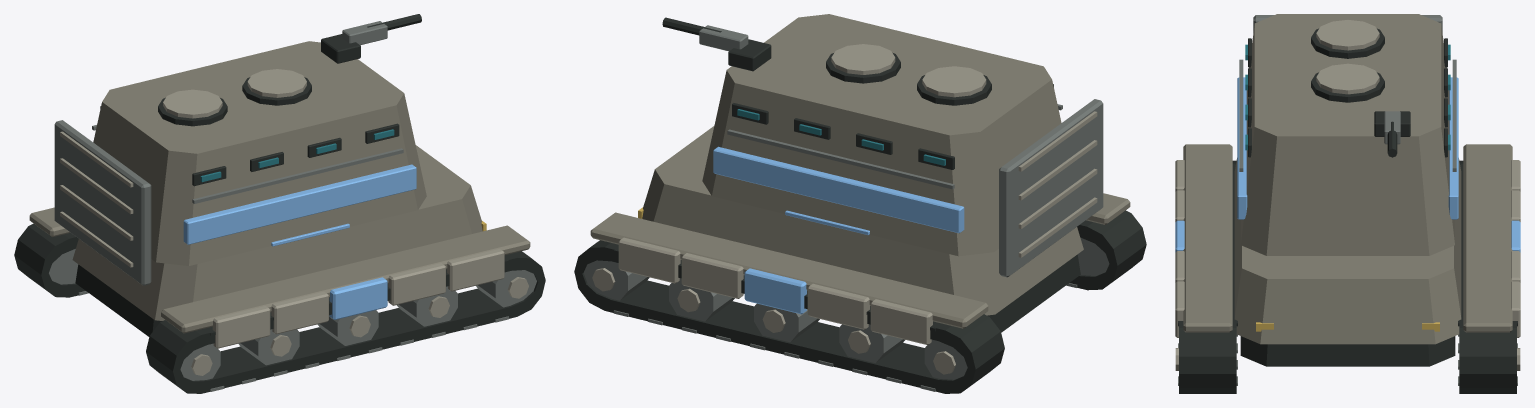
The model's file is troop_crawler.glb.
The picture shows the model from 3 angles, left to right: view 1: azimuth 30°, elevation 25°; view 2: azimuth 150°, elevation 25°; view 3: azimuth 270°, elevation 25°; orthographic projection. The views are drawn at different scales.
Visible parts, largest first — view 1: troop_crawler; view 2: troop_crawler; view 3: troop_crawler.
Boxes of the visible parts, x1,y1,x2,y2 form: troop_crawler: (14,14,545,393); troop_crawler: (574,14,1146,393); troop_crawler: (1175,14,1520,393).
Bounding box in the file's own units: 2.78 × 1.63 × 2.1.
